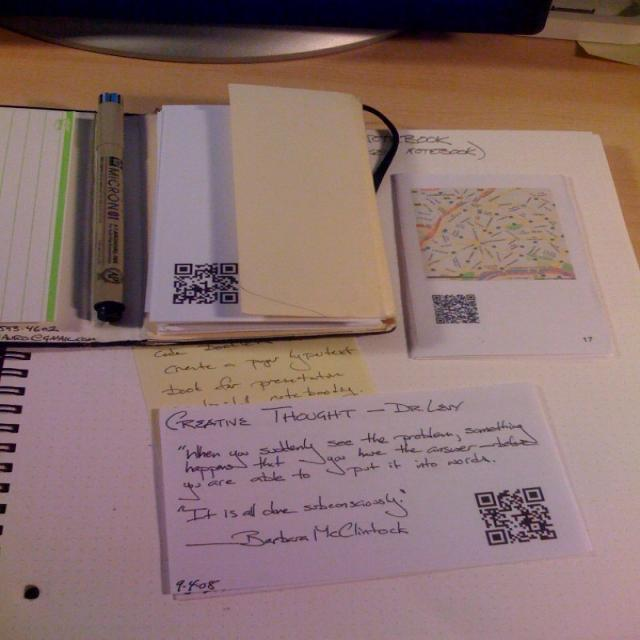qr-code: (474, 486, 556, 546), (173, 263, 238, 303), (432, 294, 480, 324)
